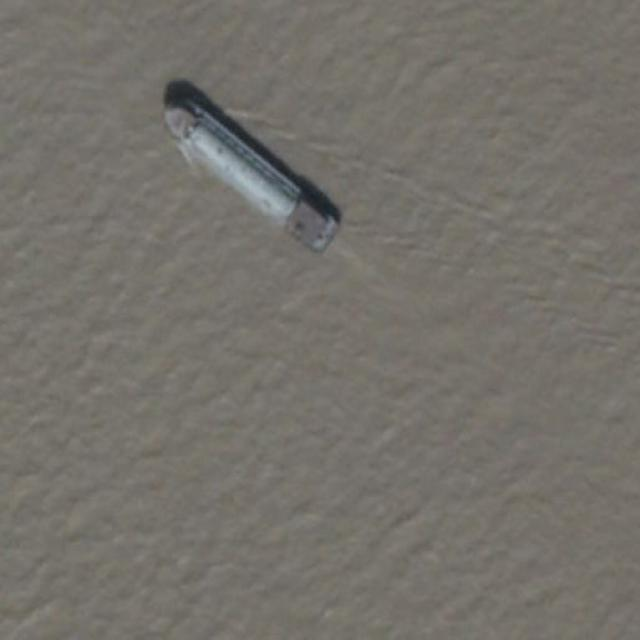boat: (158, 94, 339, 258)
